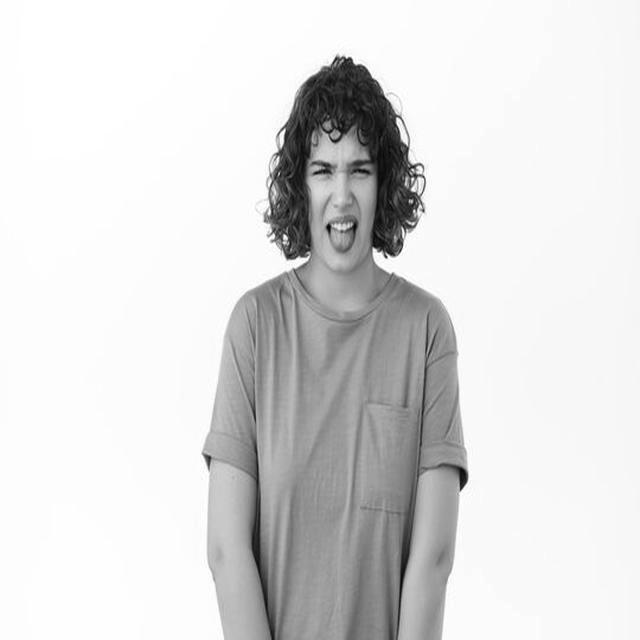Disgust: (307, 119, 379, 273)
